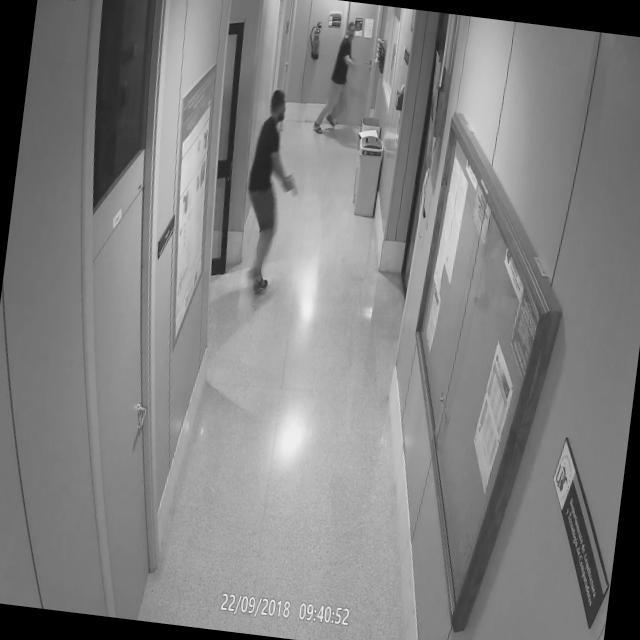gun: (277, 166, 301, 202)
person: (317, 17, 358, 139)
person with a gun: (232, 82, 298, 296)
